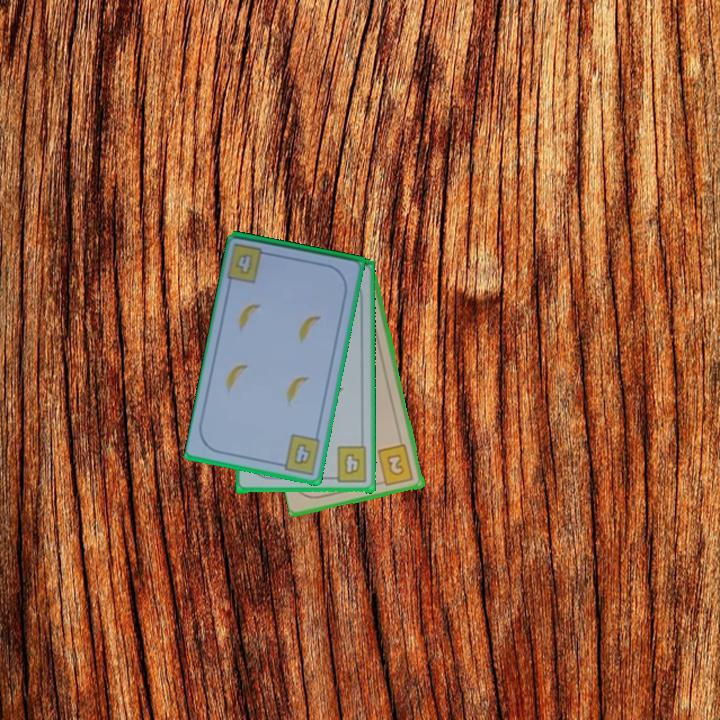2b: (374, 441, 417, 489)
4b: (274, 431, 324, 478), (326, 444, 370, 486), (232, 250, 256, 278)
